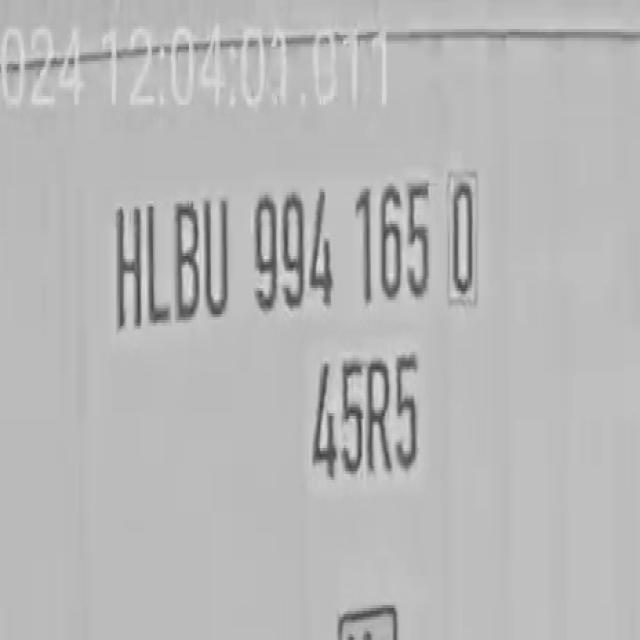dv: (442, 172, 489, 311)
owner: (105, 186, 232, 342)
serial: (247, 171, 433, 324)
size: (304, 338, 424, 506)
